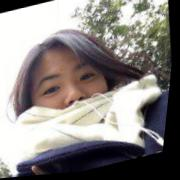WRONG: (28, 49, 119, 148)
